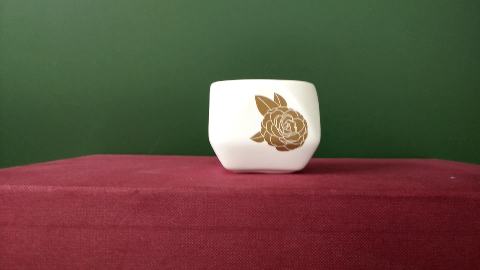flower: (244, 88, 310, 152)
